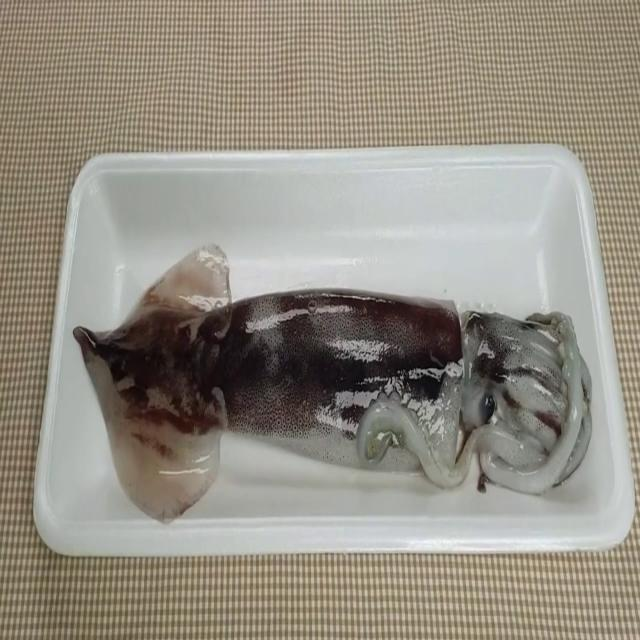SQUID: (41, 226, 640, 536)
